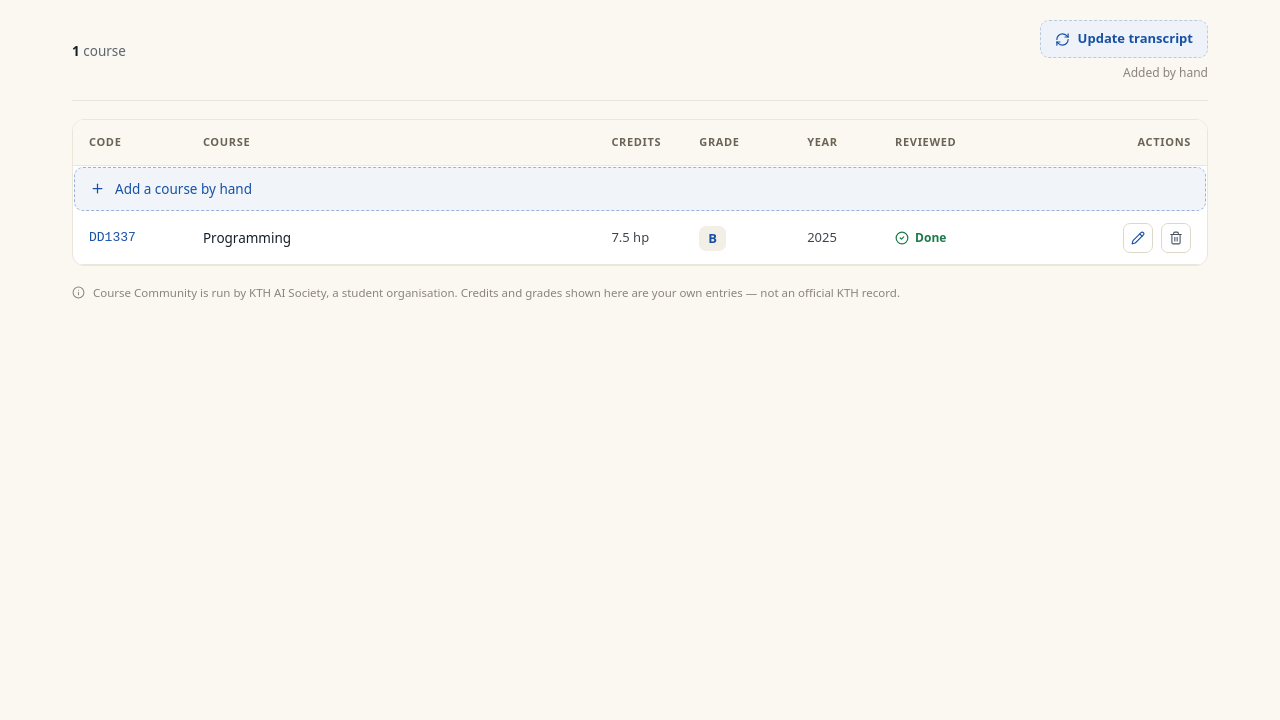
Test: adding by hand › cannot offer a course already on the list
The image size is (1280, 720).
Click the button "Add a course by hand".
click(183, 188)  # box x1=74 y1=166 x2=1206 y2=211
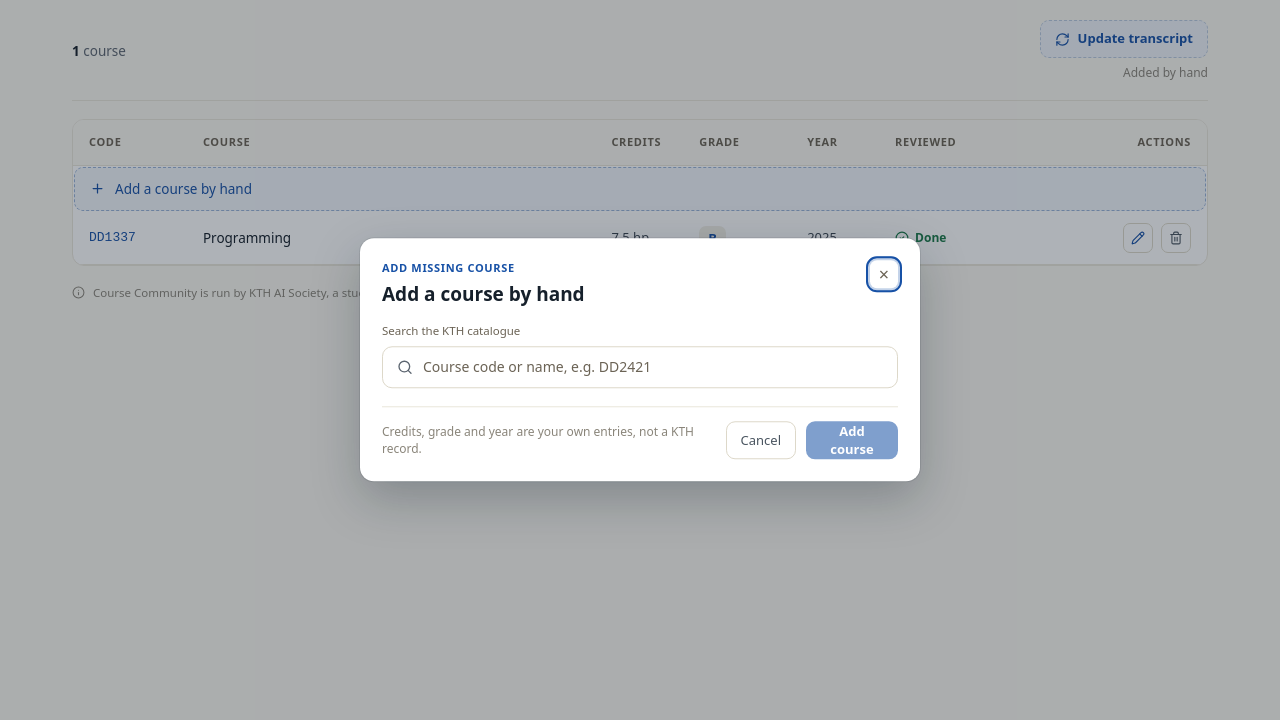
Type "DD1337" into the search field named "Search the KTH catalogue".
click(653, 368); type("DD1337")  # box x1=423 y1=358 x2=883 y2=378
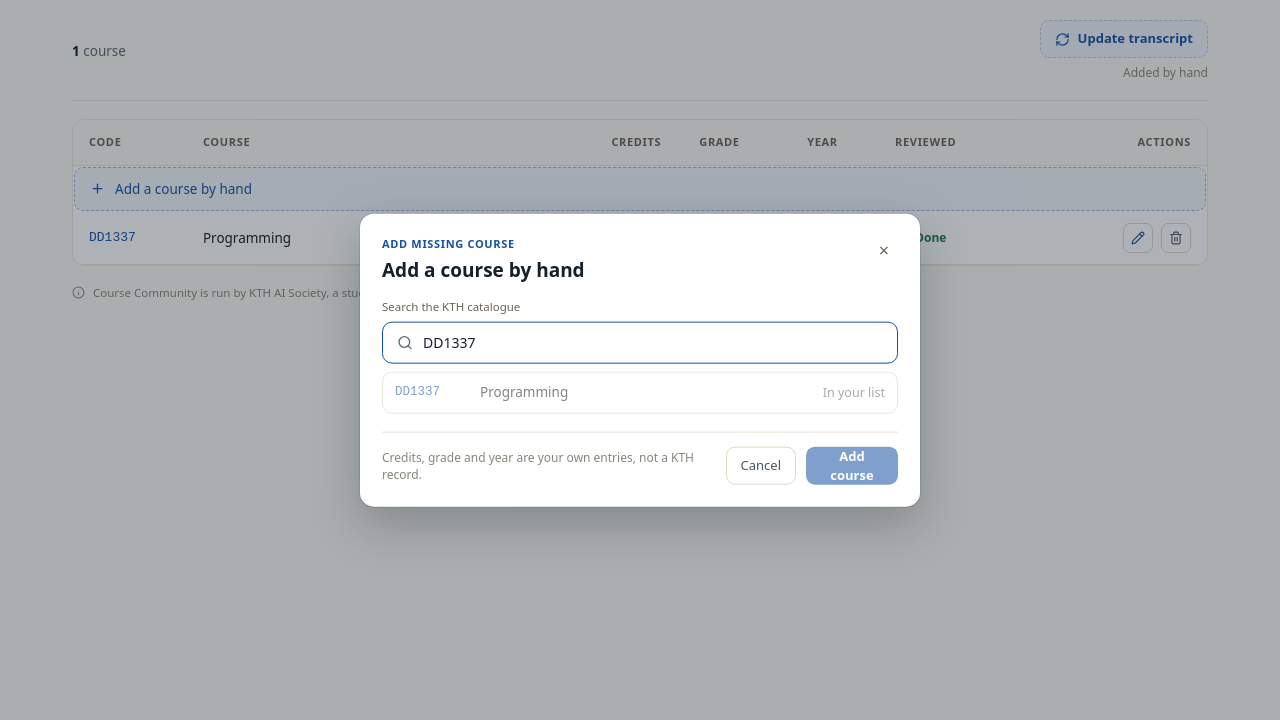
Result: the button "DD1337 Programming In your list" is disabled at x1=383 y1=373 x2=897 y2=412
